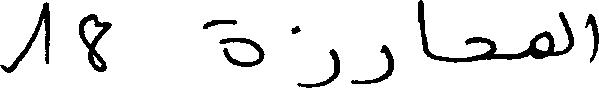X: (0, 0, 48, 77), (205, 15, 260, 71), (292, 21, 338, 87), (80, 9, 109, 76), (353, 40, 391, 87), (467, 32, 492, 66), (534, 26, 551, 63), (560, 7, 571, 59), (419, 0, 427, 61), (590, 9, 598, 67)
